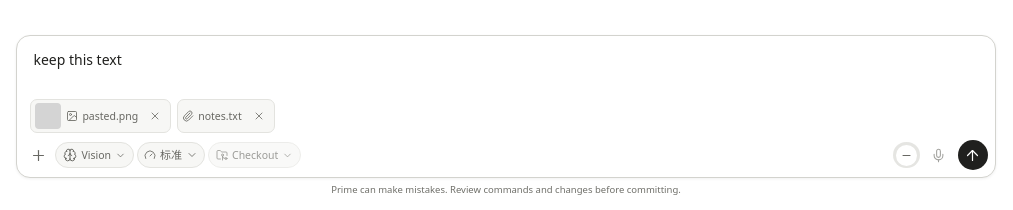
it: Composer image ingestion › stages mixed file types and rejects unsupported files when sending
Check: the number of elements with class "composer-attachment" is 2, box [30, 99, 171, 133]; [177, 99, 275, 133]
Click the button named "发送": (973, 155) [958, 140, 988, 170]
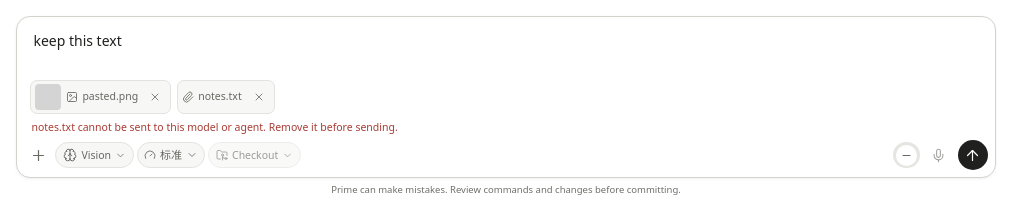
Check: the dropdown named "给 Prime 发消息" holds "keep this text", box [24, 24, 988, 79]
Check: the message "notes.txt cannot be sent to this model or agent. Remove it before sending." is shown, box [31, 120, 398, 134]
